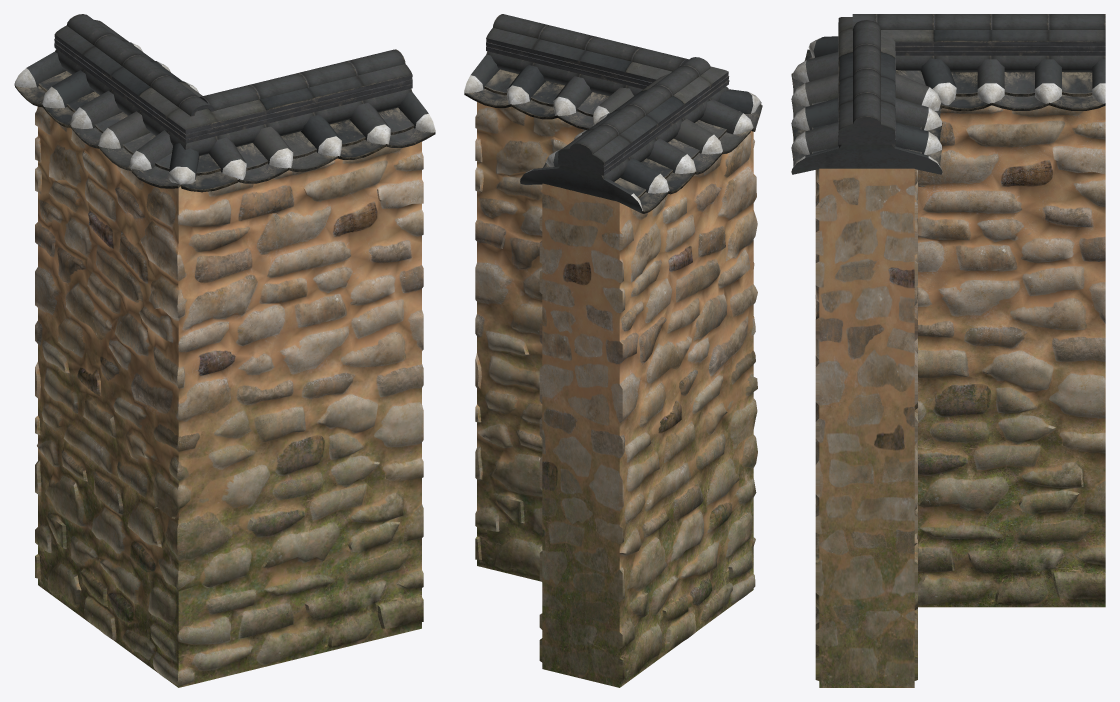
File: SM_Stonewall01a.fbx
3 views of the same model, side by side, from view 1: azimuth 30°, elevation 25°; view 2: azimuth 150°, elevation 25°; view 3: azimuth 270°, elevation 25° (orthographic). The views are drawn at different scales.
Visible parts, largest first — view 1: SM_Stonewall01a; view 2: SM_Stonewall01a; view 3: SM_Stonewall01a.
Part boxes in pixels (<box>): SM_Stonewall01a: <box>14,14,435,687</box>; SM_Stonewall01a: <box>464,14,762,687</box>; SM_Stonewall01a: <box>791,14,1105,687</box>.
Bounding box in the file's own units: 165 × 165 × 330.
2 materials, 2 textured.
